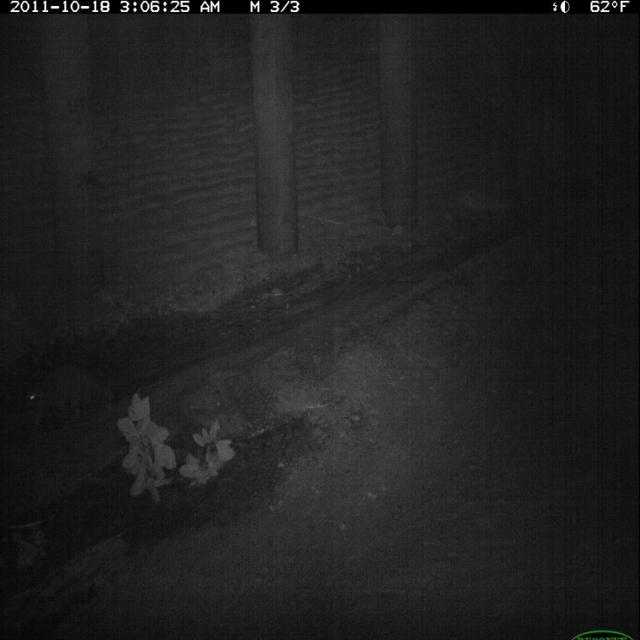raccoon: (17, 356, 115, 437)
